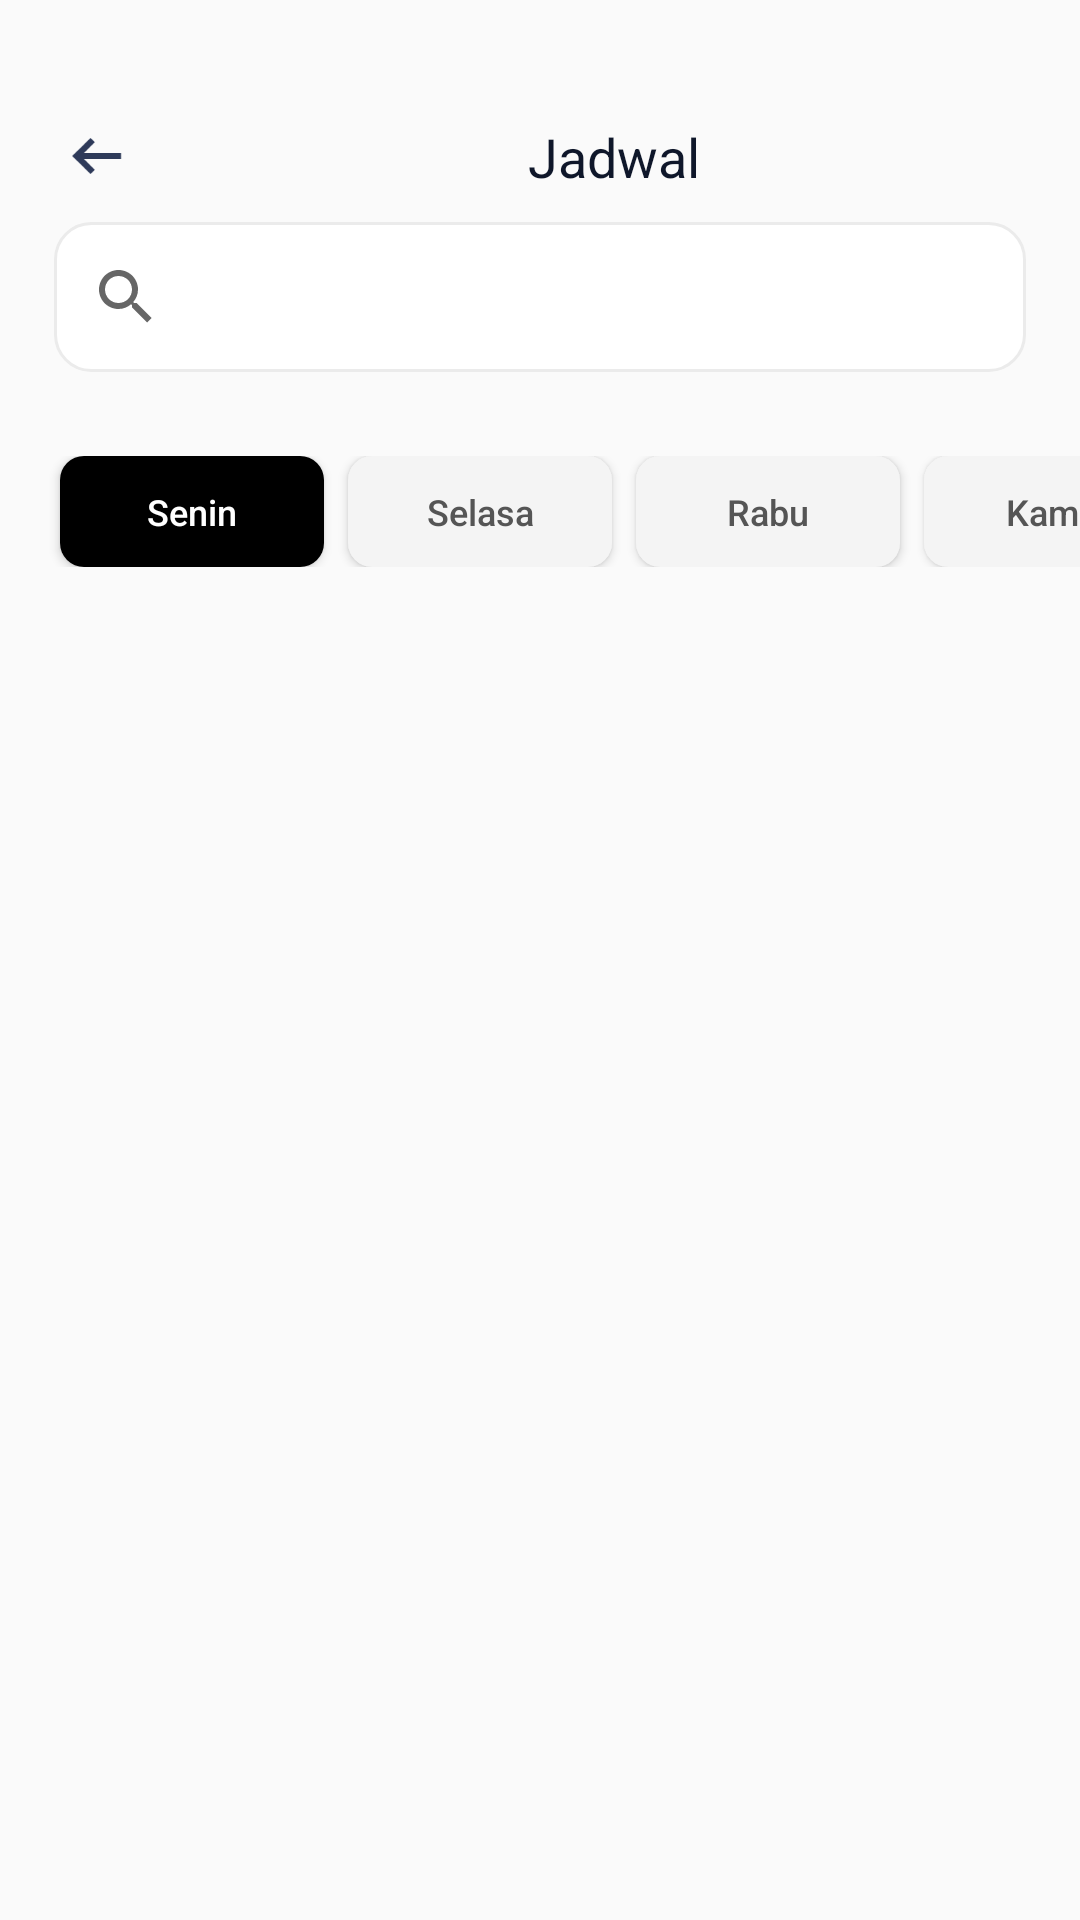

Screen size 1080*1920. Icon name, then its center in pixels as (x,y):
arrow: (97,156)
